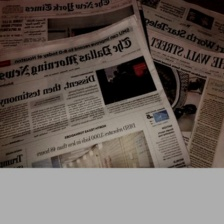news_paper: (0, 11, 195, 169), (131, 21, 224, 170), (0, 0, 150, 51), (136, 0, 224, 54)
